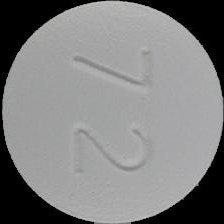68462-694: (0, 0, 224, 224)
